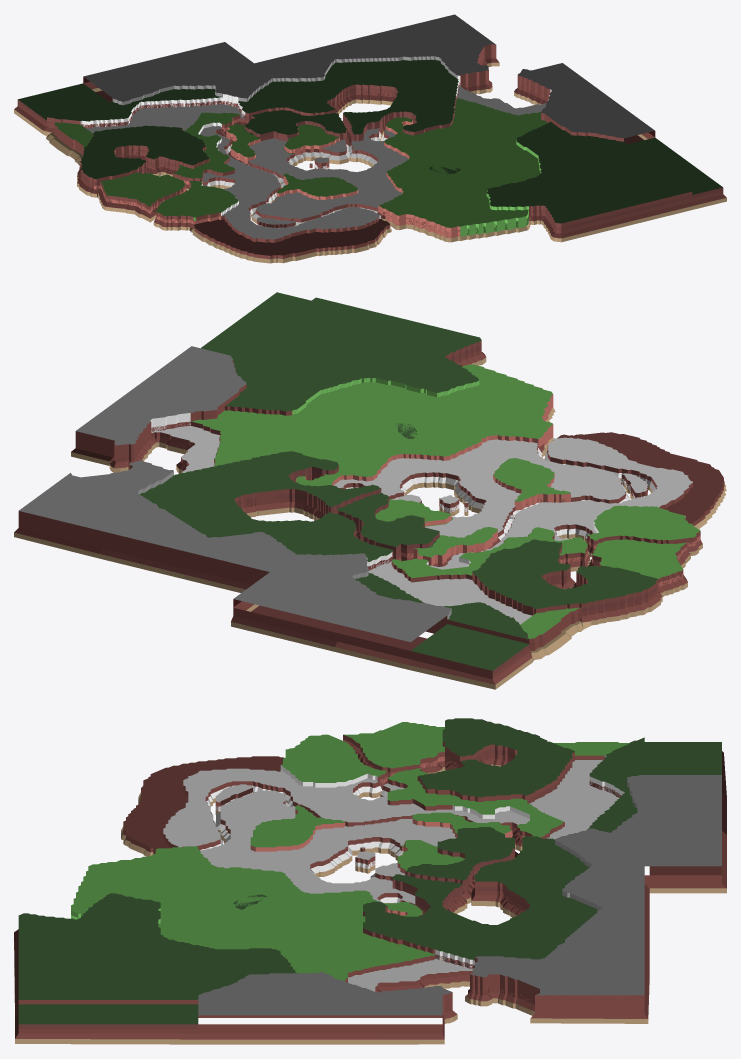
The model's file is main_zone_map.glb.
3 renders of one model, top to bottom at view 1: azimuth 30°, elevation 25°; view 2: azimuth 150°, elevation 25°; view 3: azimuth 270°, elevation 25°, orthographic. The views are drawn at different scales.
Parts seen in each view (by area): view 1: BACKUP, Plane; view 2: BACKUP, Plane; view 3: BACKUP, Plane.
Boxes of the visible parts, left/top/right/bottom form: BACKUP: left=47, top=15, right=692, bottom=259; Plane: left=14, top=14, right=726, bottom=263; BACKUP: left=18, top=297, right=724, bottom=651; Plane: left=14, top=292, right=726, bottom=689; BACKUP: left=18, top=718, right=644, bottom=1017; Plane: left=14, top=739, right=726, bottom=1044.
Bounding box in the file's own units: 291 × 16.15 × 286.
